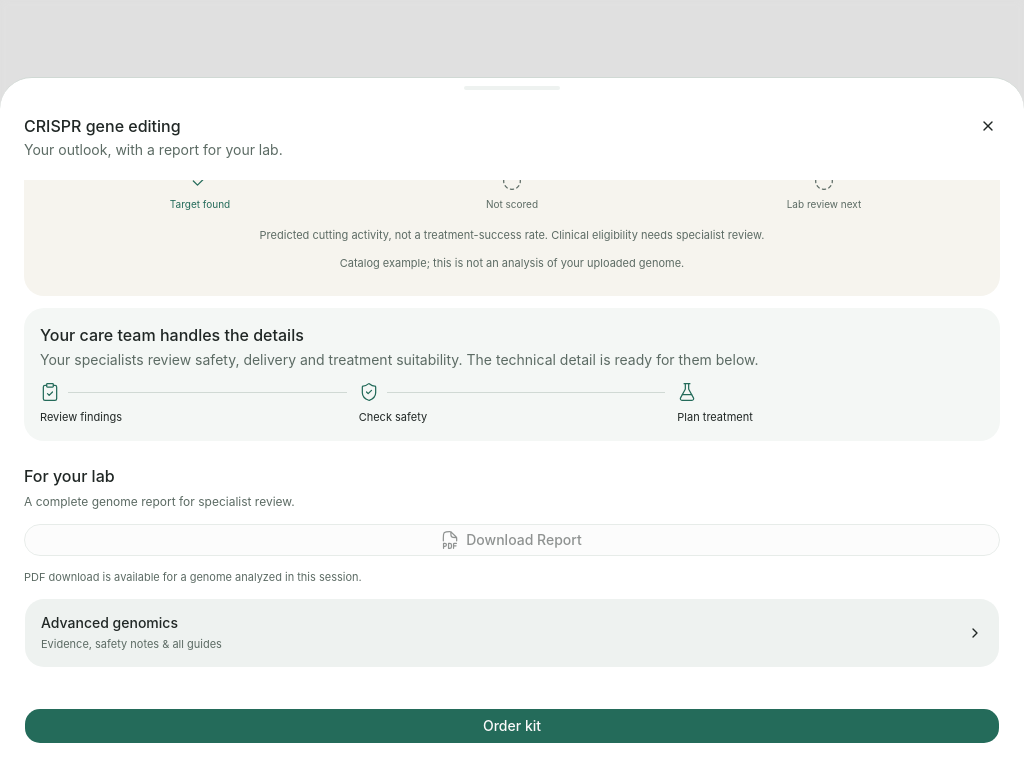
Test: says plainly when no editing site exists near the variant
(page scrolled)
Step 1. Click the button "Advanced genomics" → (109, 622), box left=24, top=598, right=1000, bottom=667
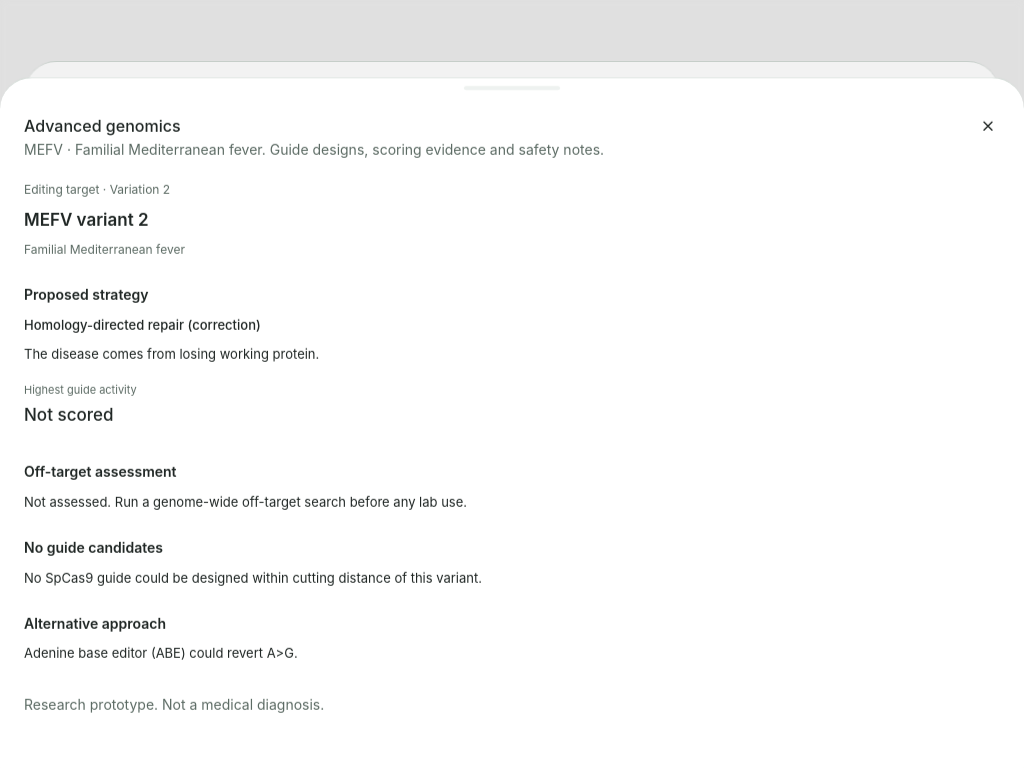
Now the heading "No guide candidates" is shown, box left=24, top=539, right=163, bottom=556
Now the text "No SpCas9 guide could be designed within cutting distance" is shown, box left=24, top=569, right=482, bottom=585
